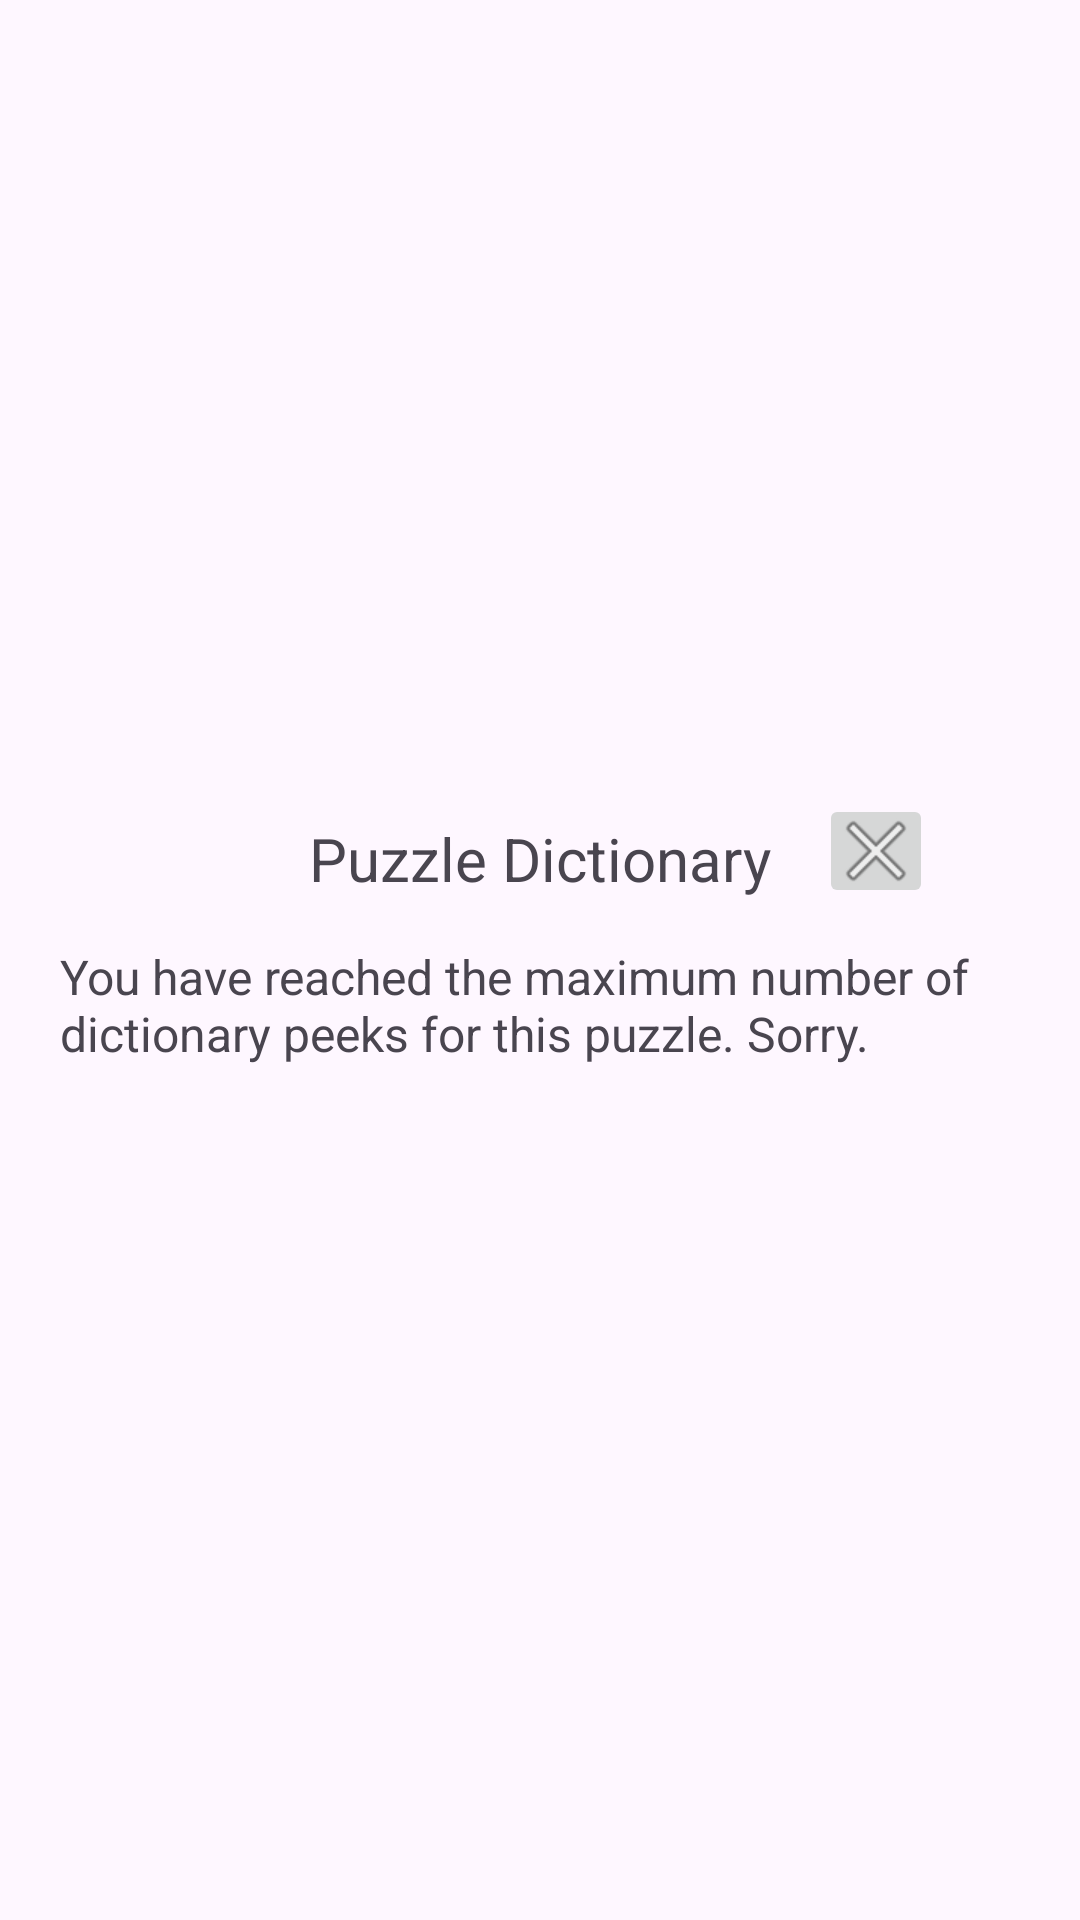

Icon click points for this 1080px x 1920px phone screenshot, format point (x, y):
close clear cancel: point (876, 851)
